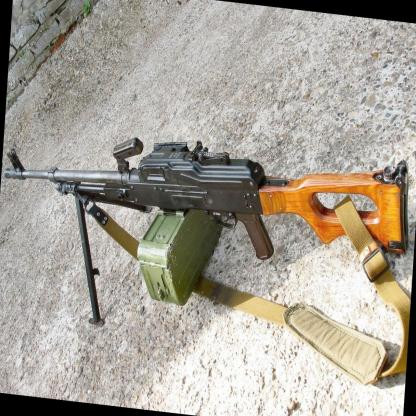rifle: (1, 120, 416, 278)
